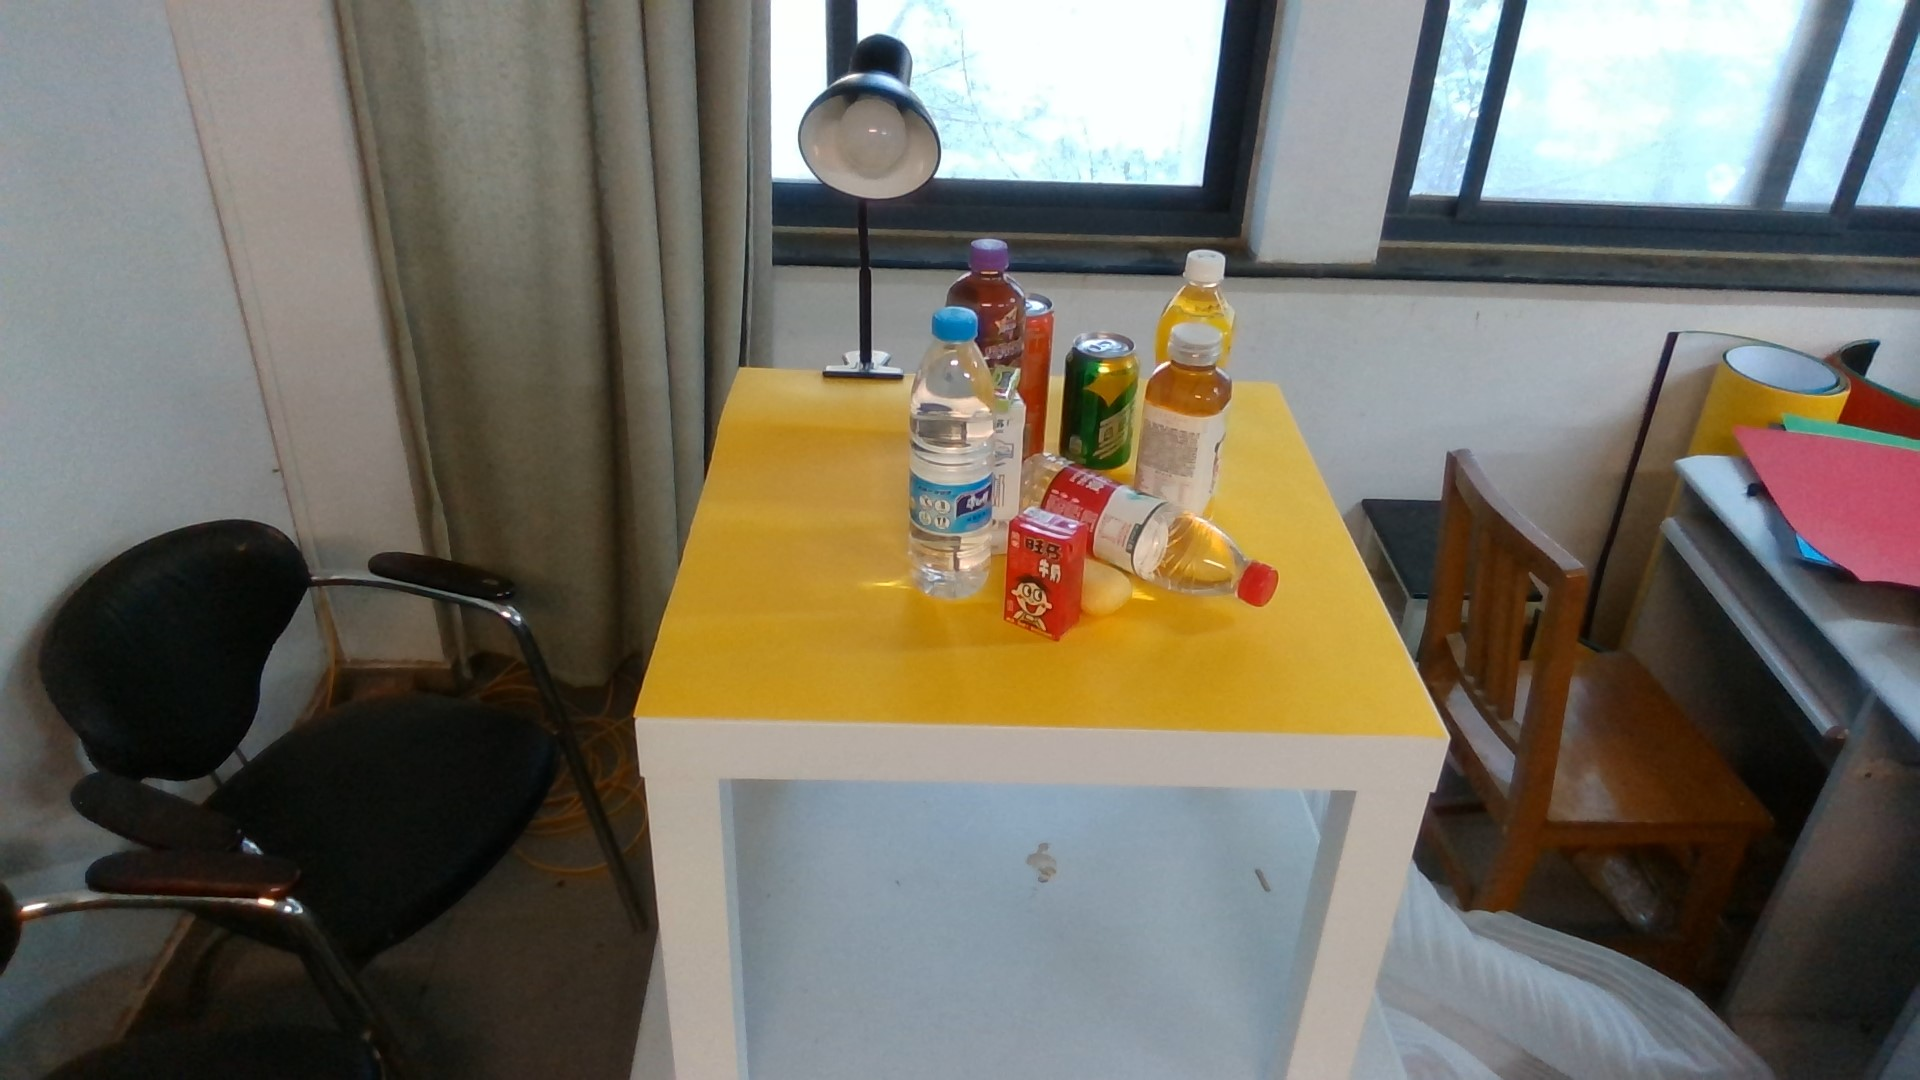BB002: (996, 364, 1025, 413)
BB010: (996, 411, 1027, 514)
BB012: (1009, 510, 1087, 642)
ZC001: (1063, 334, 1131, 456)
ZC003: (1027, 287, 1059, 446), (1087, 562, 1133, 617)
ZC009: (976, 235, 1023, 359)
ZC011: (1158, 248, 1234, 323)
ZC012: (1138, 323, 1234, 487)
ZC014: (1091, 487, 1257, 564)
ZC019: (913, 306, 993, 603)
